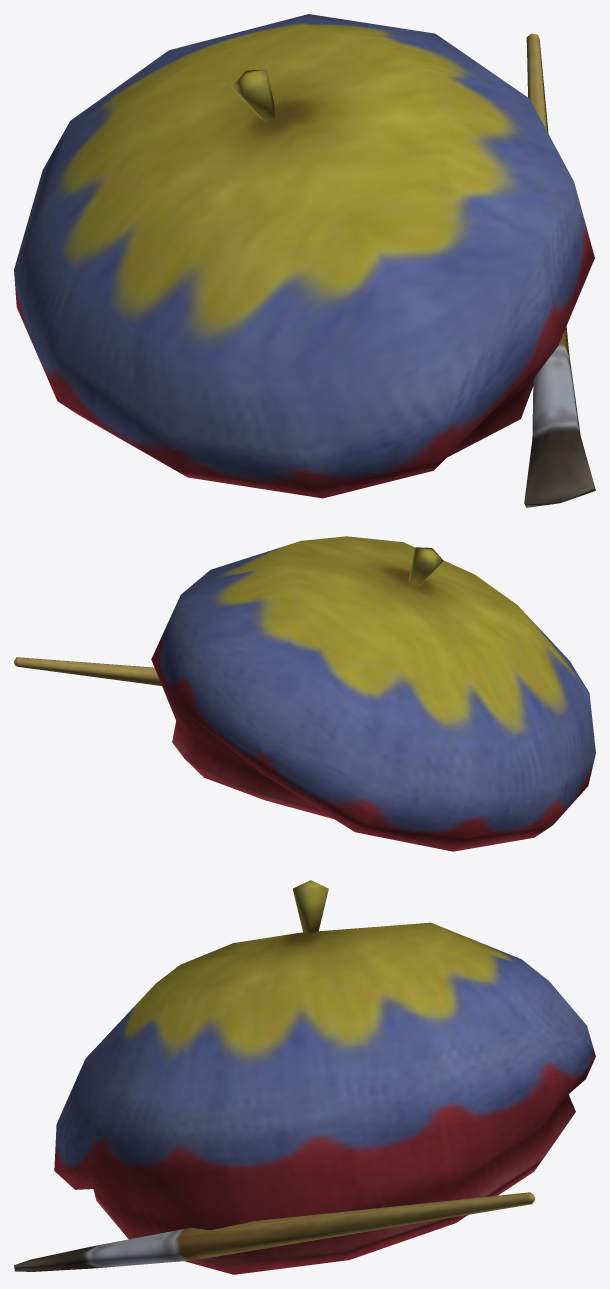
File: artistHat.glb
3 renders of one model, top to bottom at view 1: azimuth 30°, elevation 25°; view 2: azimuth 150°, elevation 25°; view 3: azimuth 270°, elevation 25°, orthographic. The views are drawn at different scales.
Visible parts, largest first — view 1: artistHat; view 2: artistHat; view 3: artistHat.
Part boxes in pixels (box(x1,y1,x2,y2)): artistHat: box(14, 14, 595, 507); artistHat: box(14, 536, 595, 851); artistHat: box(14, 880, 595, 1274).
Size of the model in its own units: 0.3971 by 0.2329 by 0.376.
1 material, 1 textured.
